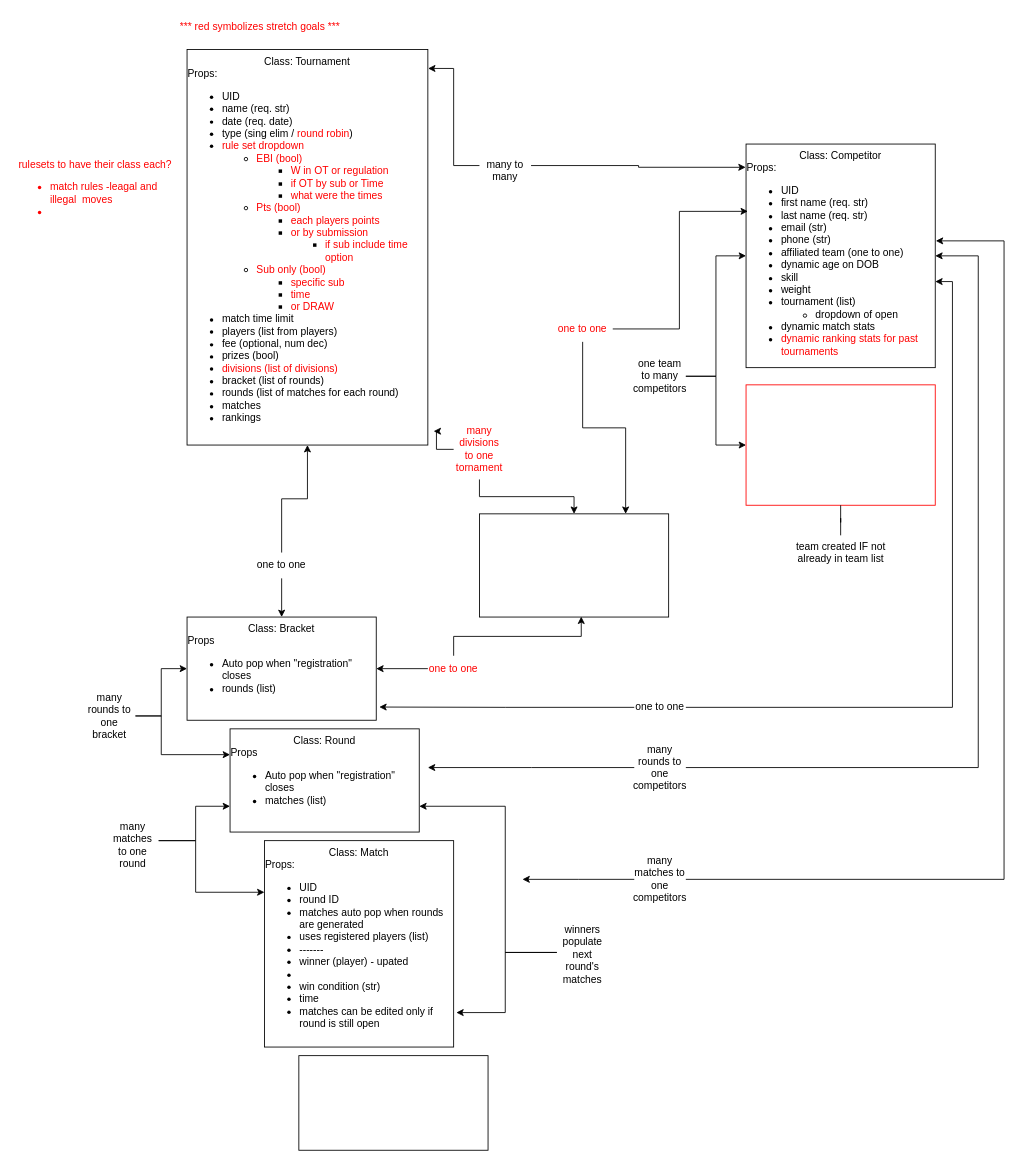
Image size: 1026x1165. Some labels were removed from this diagram. The shapes that lost their labels are listed below. From the top down, each one's centre as x and y in pixels, then its label:
(x=840, y=444): Class: Team Props: UID name (req. str) location (req. date) affiliated locations
(x=574, y=565): Class: Division Props Auto pop when "registration" closes bracket (list)
(x=393, y=1102): Class: Ranking Props place (int) name (str)\
